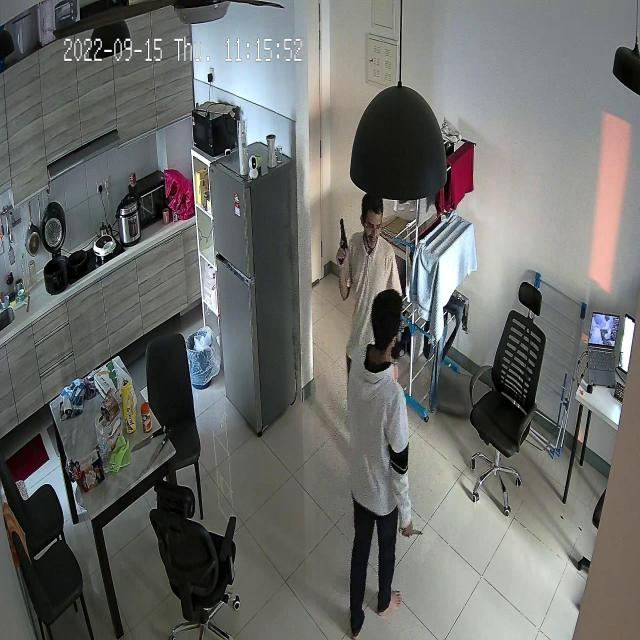Gun: (324, 211, 358, 277)
Knife: (399, 520, 435, 551)
